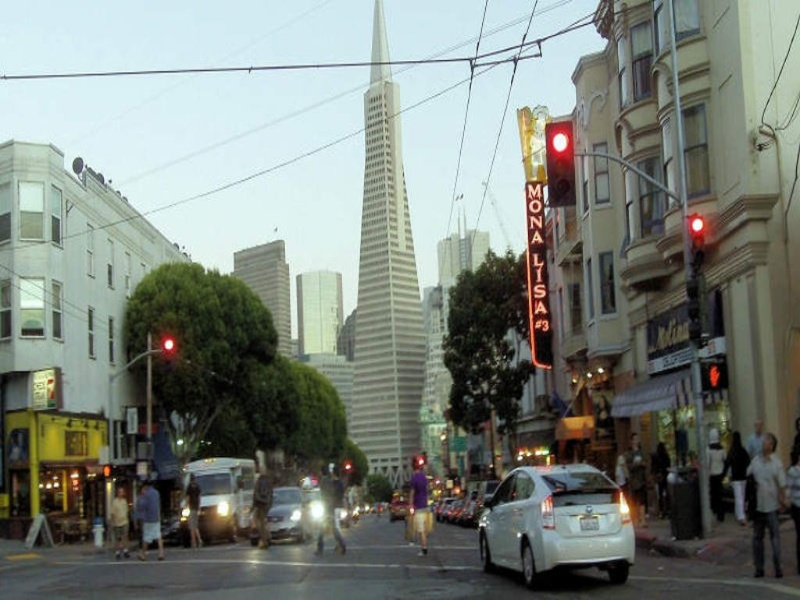red_light: (543, 124, 577, 157), (684, 208, 709, 236), (158, 333, 177, 353)
